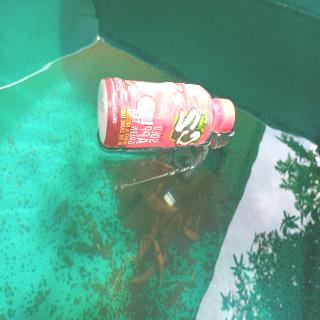bottle: (97, 75, 236, 152)
